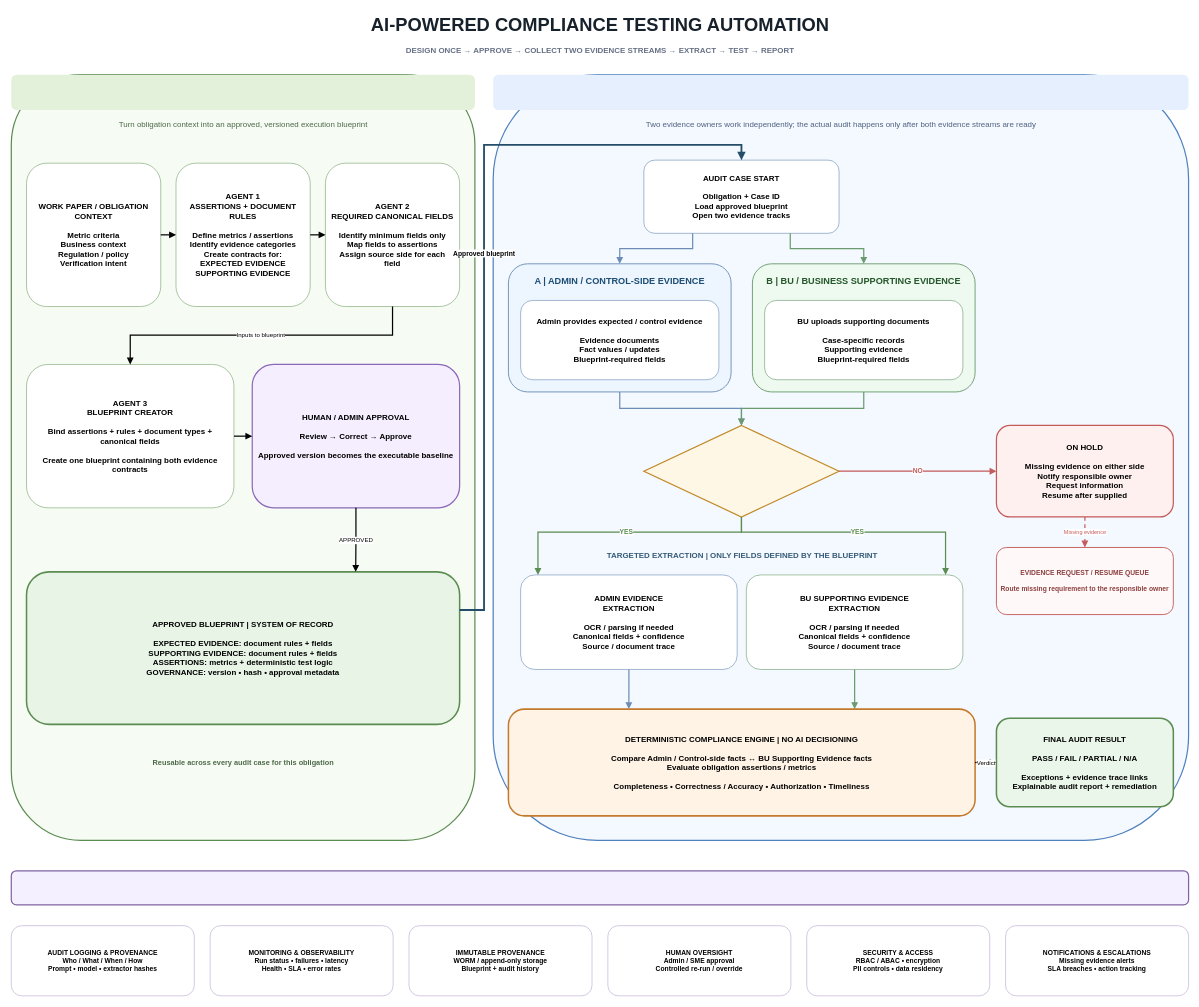
Some shapes in this 1199 by 1007 pixel diagram are drawn without their labels. Each missing label, with the centre of its shape:
BOTH EVIDENCE STREAMS READY?: (x=741, y=471)
CROSS-CUTTING GOVERNANCE & OPERATIONS: (x=599, y=887)
PHASE 1 | OBLIGATION ONBOARDING: (x=243, y=92)
PHASE 2 | COMPLIANCE AUDITING: (x=840, y=92)
